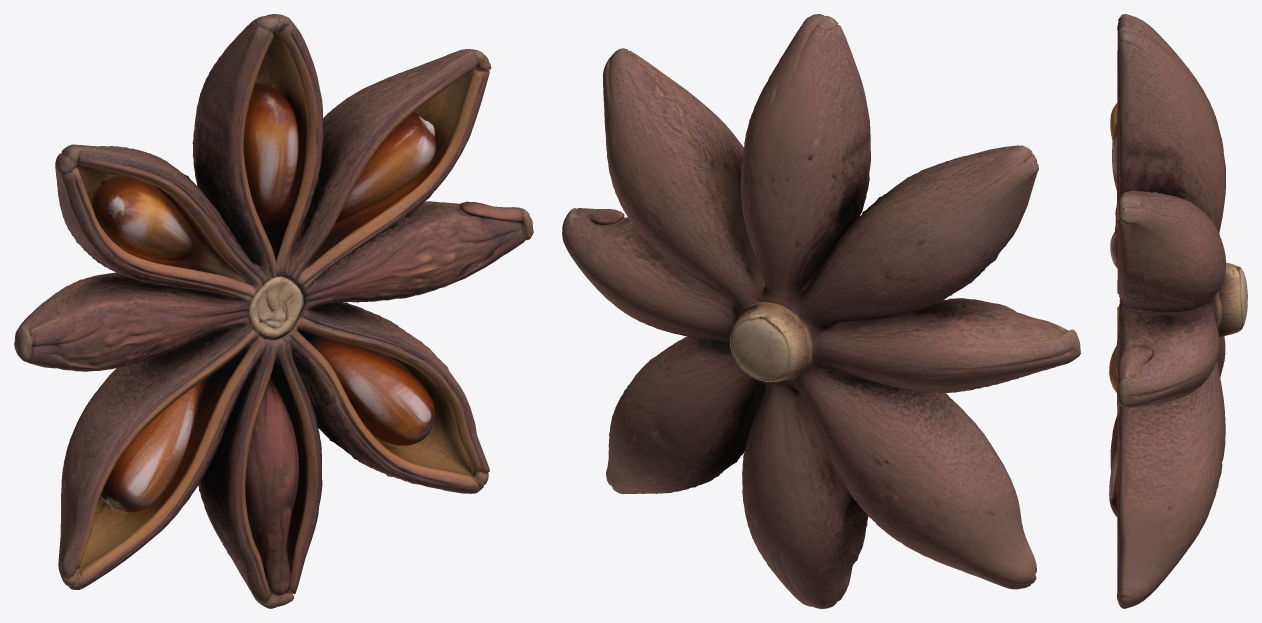
The model's file is bajiao.glb.
3 views of the same model, side by side, from view 1: azimuth 30°, elevation 25°; view 2: azimuth 150°, elevation 25°; view 3: azimuth 270°, elevation 25° (orthographic). The views are drawn at different scales.
Parts seen in each view (by area): view 1: node_0; view 2: node_0; view 3: node_0.
Boxes of the visible parts, x1,y1,x2,y2 form: node_0: (14,14,533,608); node_0: (562,14,1080,608); node_0: (1109,14,1247,608).
Bounding box in the file's own units: 1.02 × 1.12 × 0.2553.
Materials: 1 (1 with a texture image).
